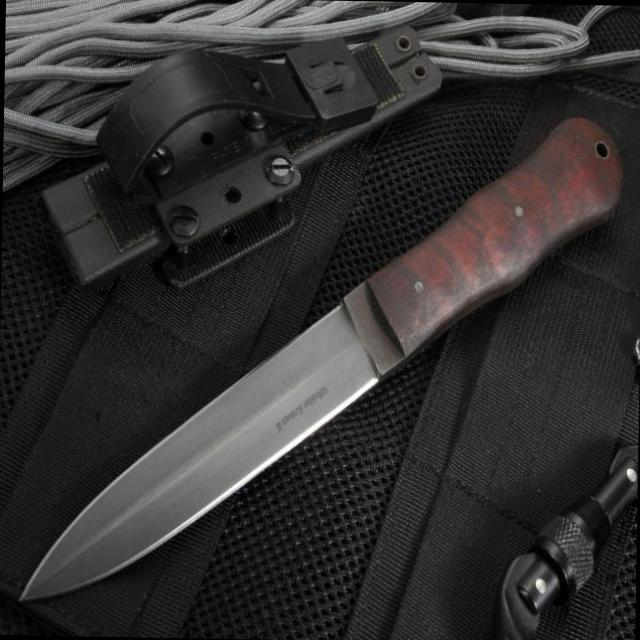Knife: (15, 229, 448, 612)
